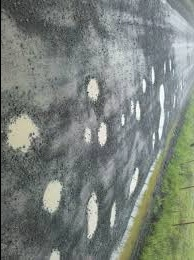pothole: (3, 104, 43, 156), (123, 206, 149, 252), (42, 175, 66, 210), (141, 156, 156, 210), (83, 196, 98, 236), (159, 81, 167, 138), (84, 75, 100, 103), (97, 120, 108, 152), (130, 165, 141, 197), (109, 200, 119, 227), (49, 244, 64, 259), (128, 94, 135, 118), (134, 98, 141, 119), (149, 131, 156, 150), (85, 127, 93, 142), (150, 64, 155, 86), (139, 77, 146, 92), (162, 58, 167, 73), (168, 58, 173, 72), (172, 96, 177, 110), (120, 113, 125, 125)
